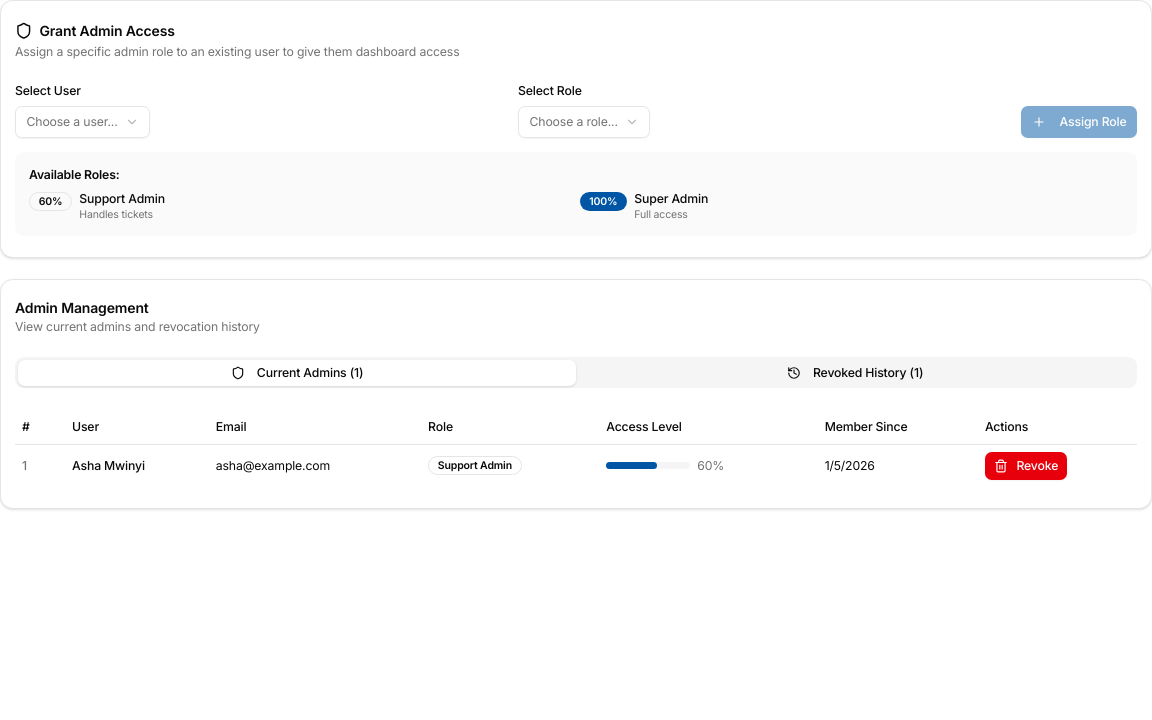
Test case: AdminUsersManagementTab › revoke admin access › opens the confirmation dialog with the admin's name and email
What coordinates should you click on to do the following:
click the button "Revoke"
I would click on:
 (1026, 466)
Its box is [985, 452, 1067, 480].
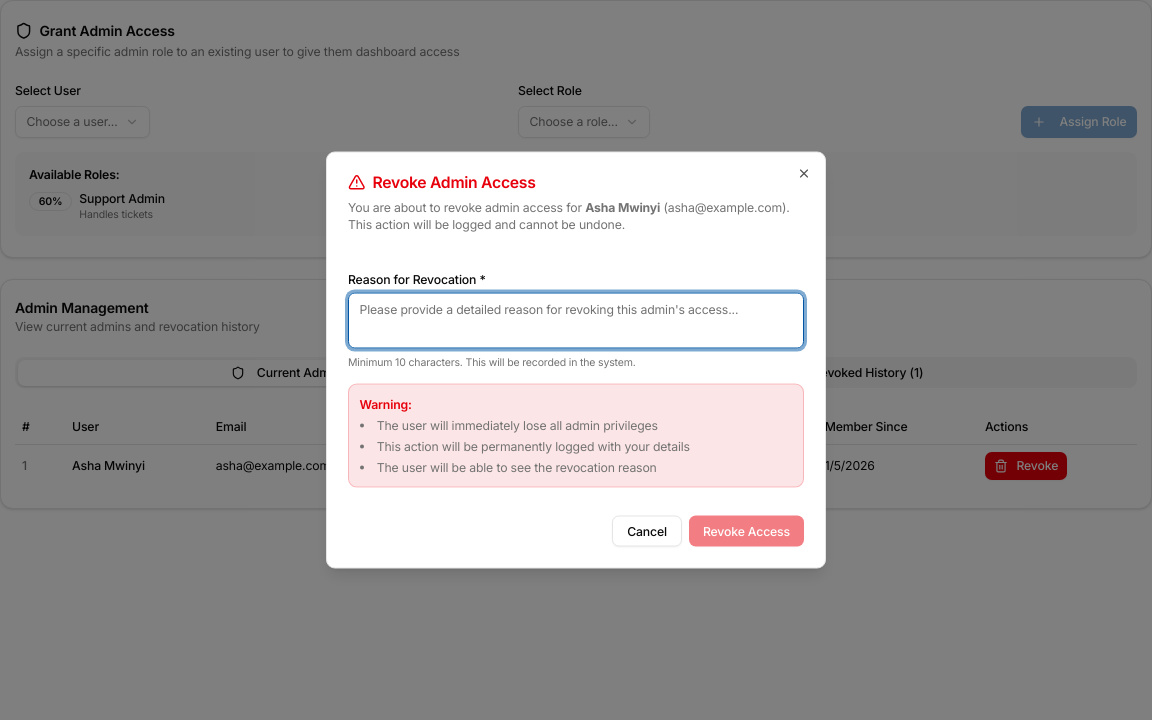
Result: the text "Asha Mwinyi" is shown at [585, 199, 660, 214]
Result: the text "asha@example.com" is shown at [668, 199, 782, 214]
